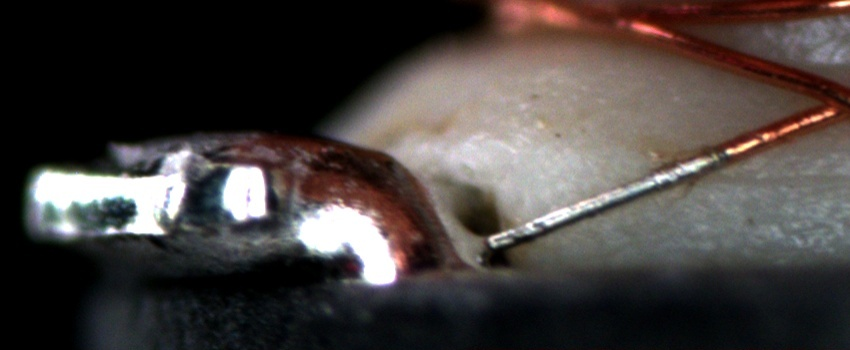CL: (794, 72, 849, 129)
DL: (696, 149, 850, 204)
TS: (487, 148, 729, 250)
